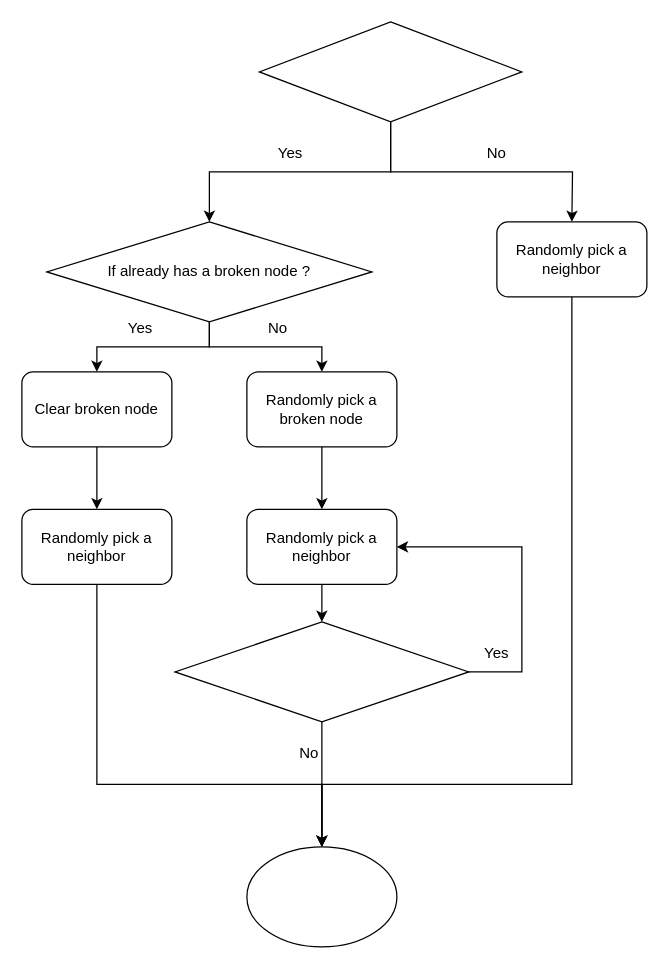
The diagram is 669 pixels wide and 969 high, and some of its shapes have lost their labels. Each missing label, with the centre of its shape:
"If break_count % X = 0 ?" goes at (x=390, y=71).
"Is the neighbor broken?" goes at (x=321, y=671).
"Pass message to neighbor" goes at (x=321, y=896).
